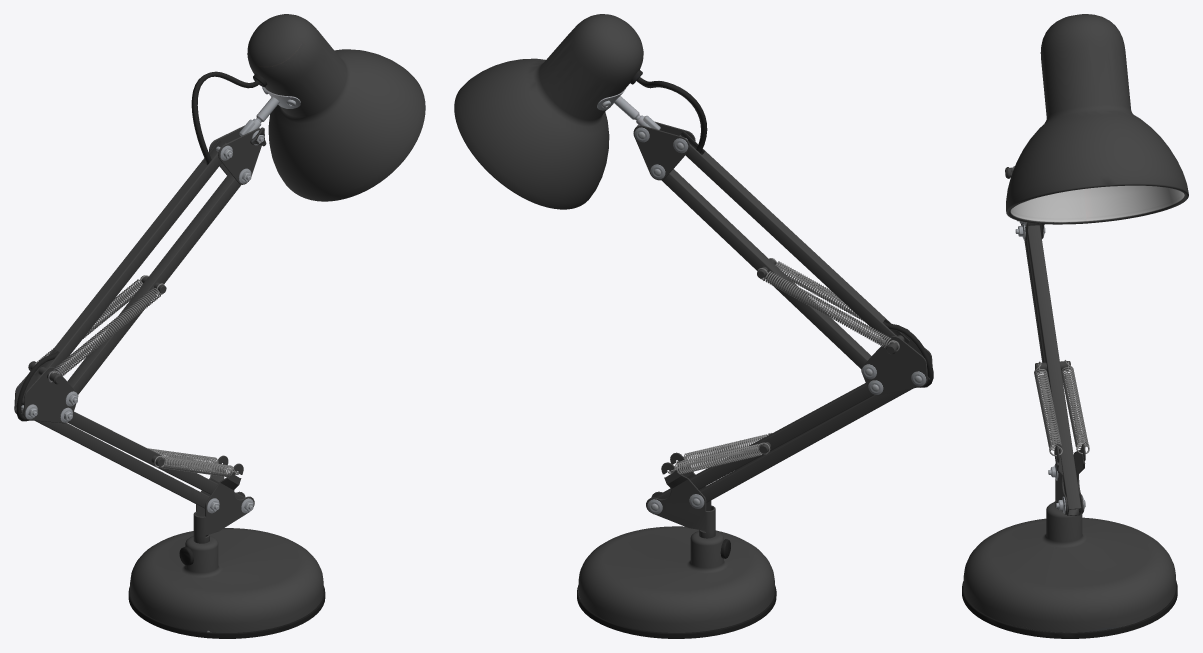
File: desk_lamp.glb
3 renders of one model, left to right at view 1: azimuth 30°, elevation 25°; view 2: azimuth 150°, elevation 25°; view 3: azimuth 270°, elevation 25°, orthographic. The views are drawn at different scales.
Visible parts, largest first — view 1: Object_2, Object_3; view 2: Object_2, Object_3; view 3: Object_2.
Boxes of the visible parts, x1,y1,x2,y2 form: Object_2: (14, 14, 425, 638); Object_3: (16, 71, 260, 421); Object_2: (454, 14, 932, 638); Object_3: (637, 77, 933, 387); Object_2: (962, 14, 1188, 638).
Size of the model in its own units: 3.06 by 3.82 by 1.28.
2 materials, 1 textured.
